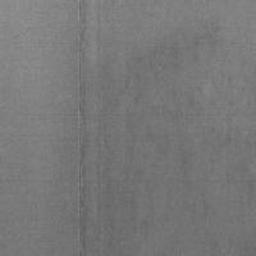Welding line: (76, 0, 87, 256)
